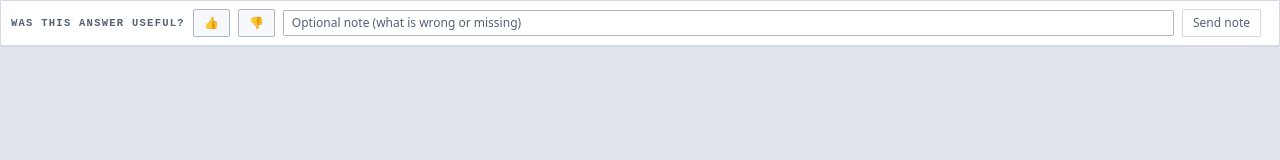
Test: FeedbackBar › sends a thumbs vote with the request ID
The width and height of the screenshot is (1280, 160).
expect the button with test id "feedback-send-note" is disabled: met, box [1182, 9, 1261, 37]
Click the button with test id "feedback-up" at (211, 23), box [193, 9, 230, 37]
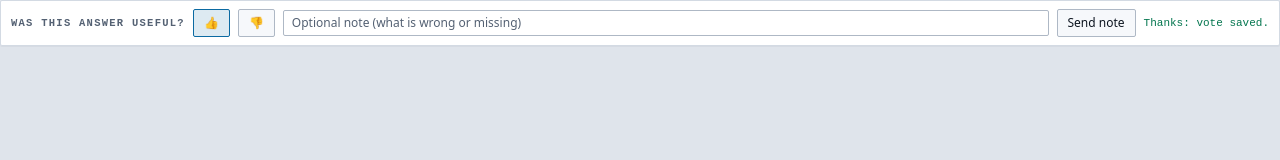
expect the text "Thanks: vote saved." is shown: met, box [1144, 16, 1269, 30]
